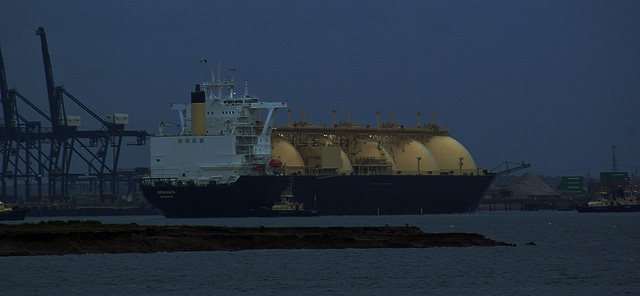LNG_ship: (140, 63, 500, 218)
tug_boat: (254, 184, 318, 217)
